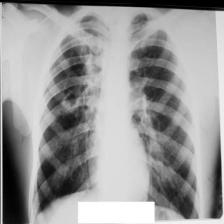tuberculosis: (28, 9, 204, 220)
